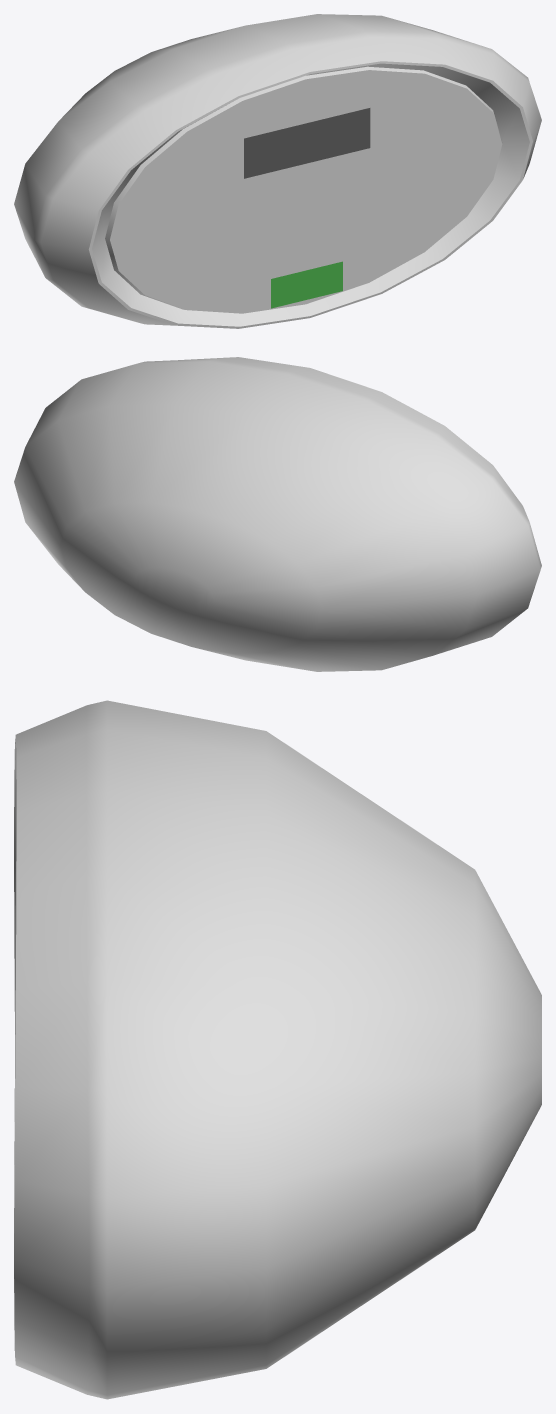
The model's file is CRIP500a.FBX.
The picture shows the model from 3 angles, top to bottom: view 1: azimuth 30°, elevation 25°; view 2: azimuth 150°, elevation 25°; view 3: azimuth 270°, elevation 25°; orthographic projection. The views are drawn at different scales.
Visible parts, largest first — view 1: CRIP500a; view 2: CRIP500a; view 3: CRIP500a.
Part boxes in pixels (box(x1,y1,x2,y2)): CRIP500a: box(14, 14, 541, 328); CRIP500a: box(14, 357, 541, 671); CRIP500a: box(14, 700, 541, 1399).
Bounding box in the file's own units: 37.1 × 17.32 × 18.7.
